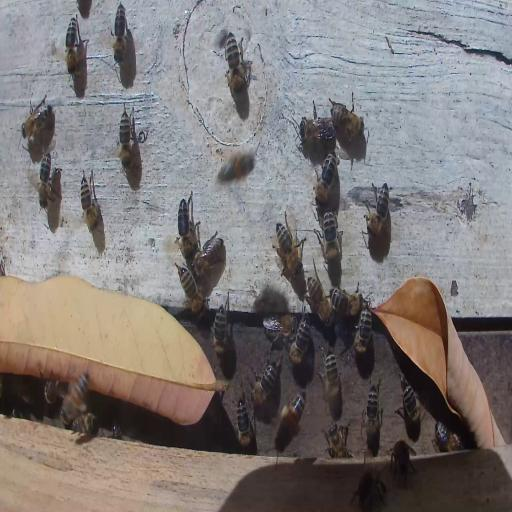nonpollenbee: (328, 93, 367, 143), (273, 220, 306, 279), (176, 190, 202, 260), (223, 35, 253, 92), (299, 106, 331, 159), (176, 264, 207, 316), (192, 231, 226, 278), (22, 94, 52, 147), (79, 169, 102, 236), (364, 182, 391, 237), (390, 437, 418, 488), (352, 465, 387, 505), (318, 209, 342, 264), (216, 148, 254, 180), (320, 349, 340, 409), (307, 275, 332, 322), (314, 154, 337, 205), (400, 379, 420, 434), (288, 316, 311, 363), (365, 382, 382, 444), (235, 396, 254, 449), (325, 422, 352, 458), (250, 366, 276, 403), (112, 2, 127, 66), (213, 303, 229, 363), (39, 150, 55, 210), (331, 291, 366, 318), (355, 307, 372, 360), (118, 106, 132, 170), (433, 424, 463, 453), (263, 314, 294, 342), (65, 15, 78, 75), (70, 412, 98, 439), (44, 380, 64, 405), (110, 422, 122, 436)
pollenbee: (276, 392, 306, 456), (60, 368, 88, 427)
